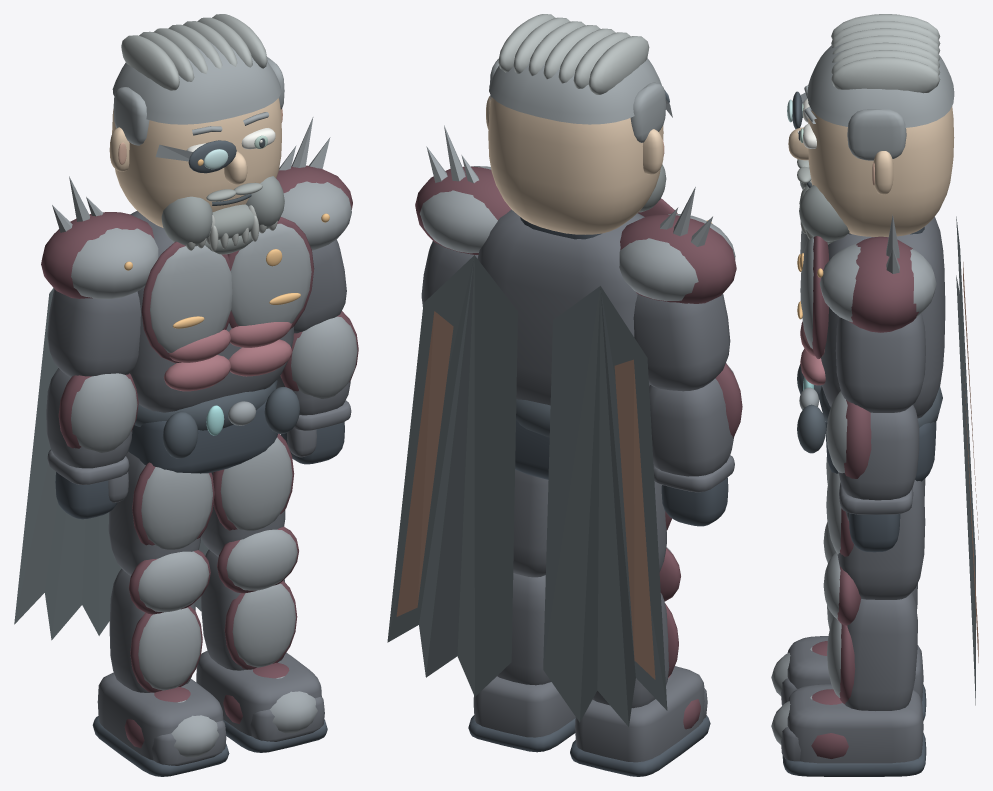
File: orion.glb
3 views of the same model, side by side, from view 1: azimuth 30°, elevation 25°; view 2: azimuth 150°, elevation 25°; view 3: azimuth 270°, elevation 25° (orthographic). The views are drawn at different scales.
Parts seen in each view (by area): view 1: R torn cape, Face, Hair cap, R upperArm, R chest plate, L chest plate, Puffer body, R foot boot, Pants hips, R shoulder plate, R thigh plate, L thigh plate (+58 smaller); view 2: R torn cape, L torn cape, Face, Puffer body, R upperArm, R foot boot, R lowerArm, R cape russet lining, L cape russet lining, Hair cap, L foot boot, R shoulder dark rim (+25 smaller); view 3: Face, L foot boot, L upperArm, L shin, Puffer body, Hair cap, L shoulder dark rim, L thigh, L lowerArm, L shoulder plate, Short brushed hair 6, Sideburn 1 (+34 smaller).
Part boxes in pixels (x1=…): R torn cape: x1=14, y1=288, x2=121, y2=640; Face: x1=112, y1=98, x2=281, y2=227; Hair cap: x1=112, y1=41, x2=281, y2=124; R upperArm: x1=47, y1=289, x2=140, y2=377; R chest plate: x1=150, y1=245, x2=232, y2=352; L chest plate: x1=230, y1=223, x2=311, y2=325; Puffer body: x1=129, y1=211, x2=293, y2=412; R foot boot: x1=97, y1=672, x2=223, y2=760; Pants hips: x1=128, y1=400, x2=277, y2=473; R shoulder plate: x1=71, y1=228, x2=158, y2=298; R thigh plate: x1=141, y1=467, x2=212, y2=549; L thigh plate: x1=220, y1=437, x2=292, y2=530; R torn cape: x1=543, y1=286, x2=667, y2=726; L torn cape: x1=387, y1=255, x2=517, y2=696; Face: x1=488, y1=97, x2=663, y2=234; Puffer body: x1=477, y1=209, x2=649, y2=405; R upperArm: x1=633, y1=294, x2=730, y2=391; R foot boot: x1=575, y1=666, x2=704, y2=762; R lowerArm: x1=649, y1=378, x2=734, y2=476; R cape russet lining: x1=614, y1=359, x2=655, y2=679; L cape russet lining: x1=396, y1=311, x2=453, y2=616; Hair cap: x1=489, y1=58, x2=661, y2=124; L foot boot: x1=473, y1=676, x2=575, y2=737; R shoulder dark rim: x1=620, y1=214, x2=736, y2=303; Face: x1=808, y1=106, x2=954, y2=236; L foot boot: x1=787, y1=684, x2=923, y2=763; L upperArm: x1=835, y1=313, x2=925, y2=412; L shin: x1=844, y1=592, x2=917, y2=710; Puffer body: x1=821, y1=217, x2=945, y2=418; Hair cap: x1=807, y1=42, x2=954, y2=127; L shoulder dark rim: x1=849, y1=236, x2=918, y2=332; L thigh: x1=837, y1=480, x2=925, y2=599; L lowerArm: x1=839, y1=405, x2=919, y2=500; L shoulder plate: x1=819, y1=242, x2=936, y2=322; Short brushed hair 6: x1=831, y1=57, x2=940, y2=93; Sideburn 1: x1=847, y1=109, x2=906, y2=160.
Size of the model in its own units: 0.8913 by 1.95 by 0.524.
